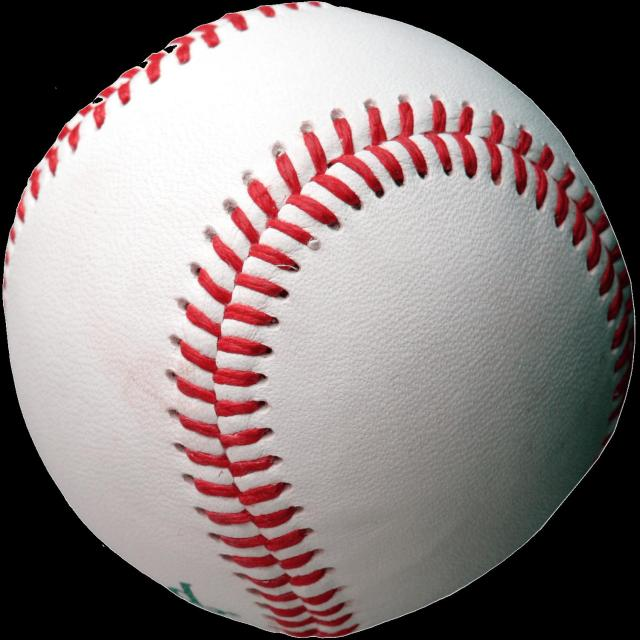baseball: (3, 2, 630, 617)
